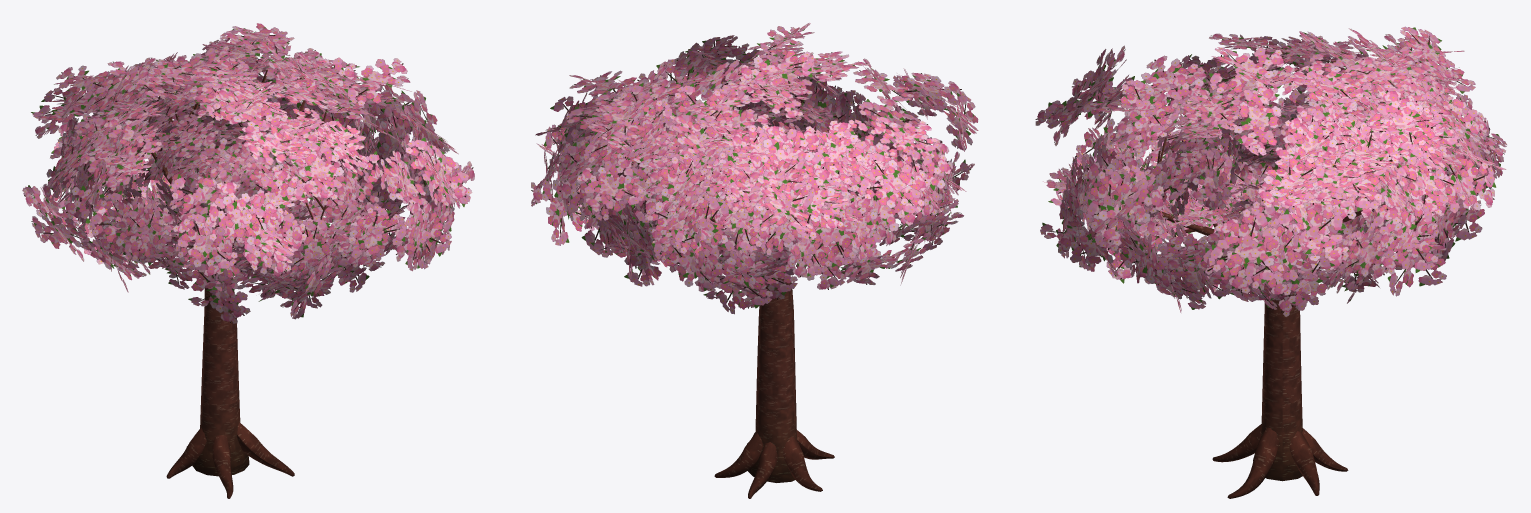
Rendered from tree_blossom.glb.
The picture shows the model from 3 angles, left to right: view 1: azimuth 30°, elevation 25°; view 2: azimuth 150°, elevation 25°; view 3: azimuth 270°, elevation 25°; orthographic projection. The views are drawn at different scales.
Parts seen in each view (by area): view 1: Leaves, Trunk, Roots, Branches; view 2: Leaves, Trunk, Roots; view 3: Leaves, Trunk, Roots, Branches.
Part boxes in pixels (bbox=[...]): Leaves: bbox=[22, 23, 474, 323]; Trunk: bbox=[192, 274, 249, 476]; Roots: bbox=[166, 422, 294, 498]; Branches: bbox=[126, 69, 357, 278]; Leaves: bbox=[531, 23, 978, 314]; Trunk: bbox=[748, 275, 796, 482]; Roots: bbox=[714, 430, 834, 498]; Leaves: bbox=[1035, 26, 1506, 316]; Trunk: bbox=[1253, 294, 1302, 481]; Roots: bbox=[1212, 424, 1348, 498]; Branches: bbox=[1155, 93, 1407, 237].
Size of the model in its own units: 5.76 by 5.37 by 5.57.
2 materials, 2 textured.
